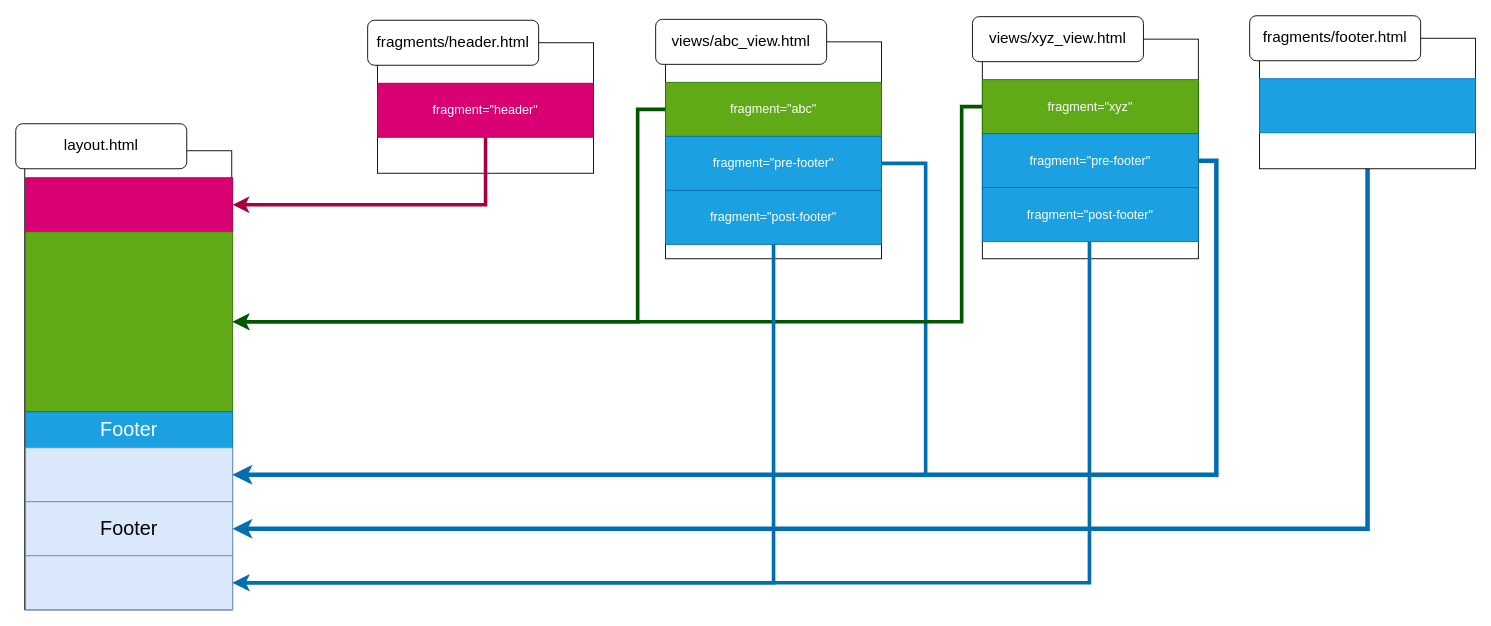
The diagram is 1491 pixels wide and 626 high, and some of its shapes have lost their labels. Here are the shapes that lost their labels. From the top down, the box of each, then its label:
(1259, 78, 1476, 133): fragment="footer"
(25, 177, 233, 232): Head
(25, 231, 233, 412): Content
(25, 447, 233, 502): Pre-Footer
(25, 555, 233, 610): Post-Footer
